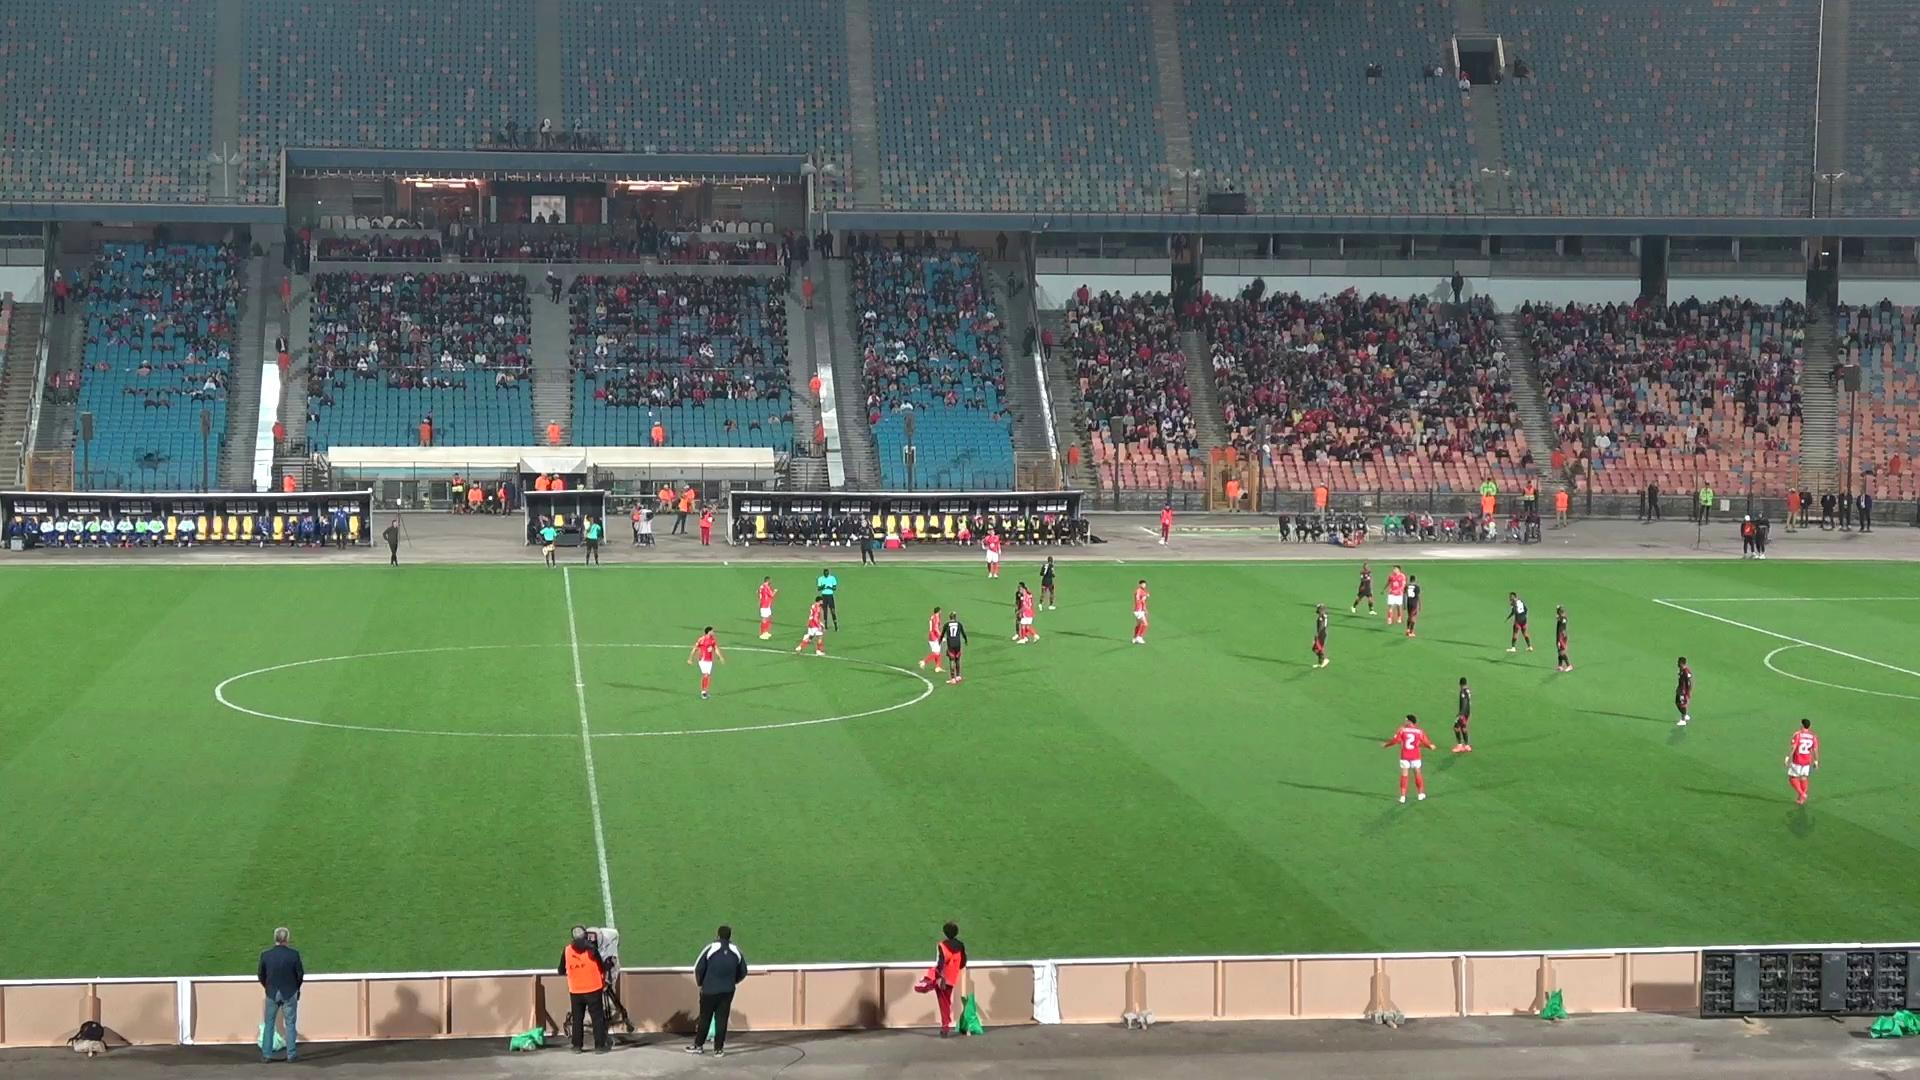Refree: (806, 568, 837, 654), (582, 516, 604, 564), (539, 521, 560, 567)
Team1: (1381, 715, 1433, 802), (1785, 719, 1818, 806), (687, 626, 724, 698), (1011, 583, 1039, 644), (918, 608, 944, 671), (1385, 564, 1407, 625), (757, 576, 775, 640), (1133, 579, 1149, 644), (981, 530, 1002, 578)
Team2: (935, 612, 967, 682), (1451, 676, 1473, 752), (1506, 591, 1534, 651), (1673, 655, 1693, 725), (1400, 575, 1422, 637), (1352, 562, 1377, 613), (1555, 607, 1573, 671), (1311, 604, 1329, 667), (1036, 556, 1055, 609)
